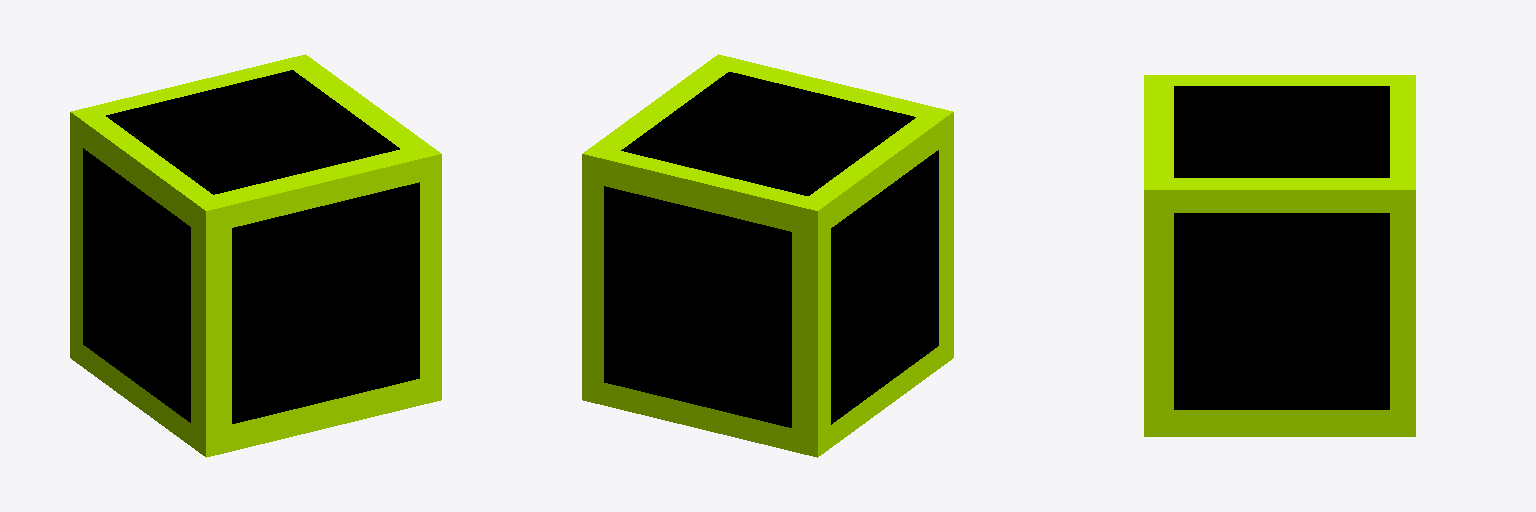
The picture shows the model from 3 angles: view 1: azimuth 30°, elevation 25°; view 2: azimuth 150°, elevation 25°; view 3: azimuth 270°, elevation 25°; orthographic projection.
Visible parts, largest first — view 1: Cube; view 2: Cube; view 3: Cube.
Boxes of the visible parts, x1,y1,x2,y2 form: Cube: [70, 54, 441, 457]; Cube: [582, 54, 953, 457]; Cube: [1144, 75, 1415, 436].
Bounding box in the file's own units: 2 × 2 × 2.
Materials: 1 (1 with a texture image).